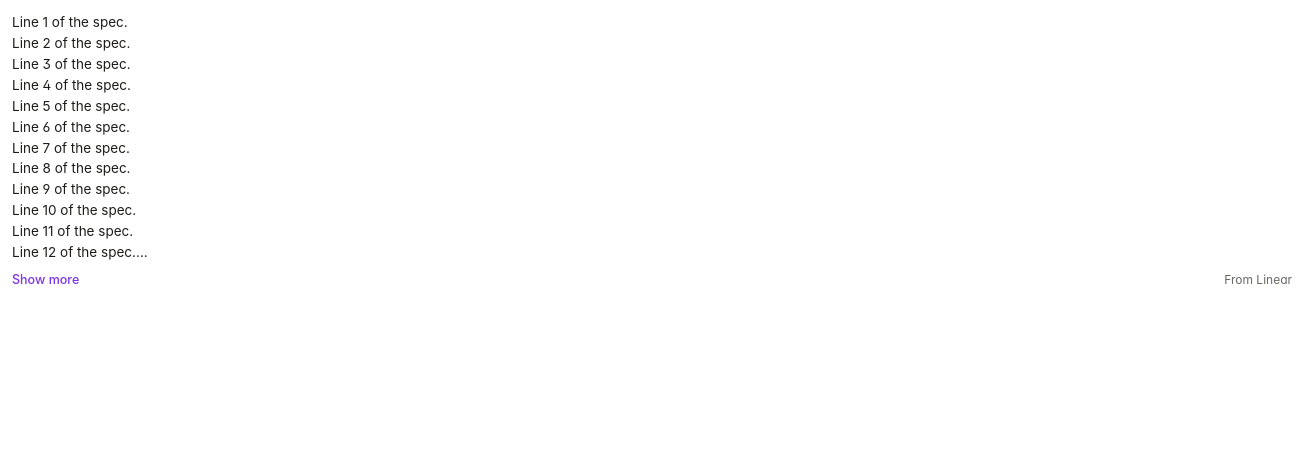
Test: TaskDescription › clamps long text behind a Show more toggle
The image size is (1304, 473).
What coordinates should you click on to do the following:
click the button "Show more"
I would click on:
 (46, 280)
Its box is [12,271,79,289].
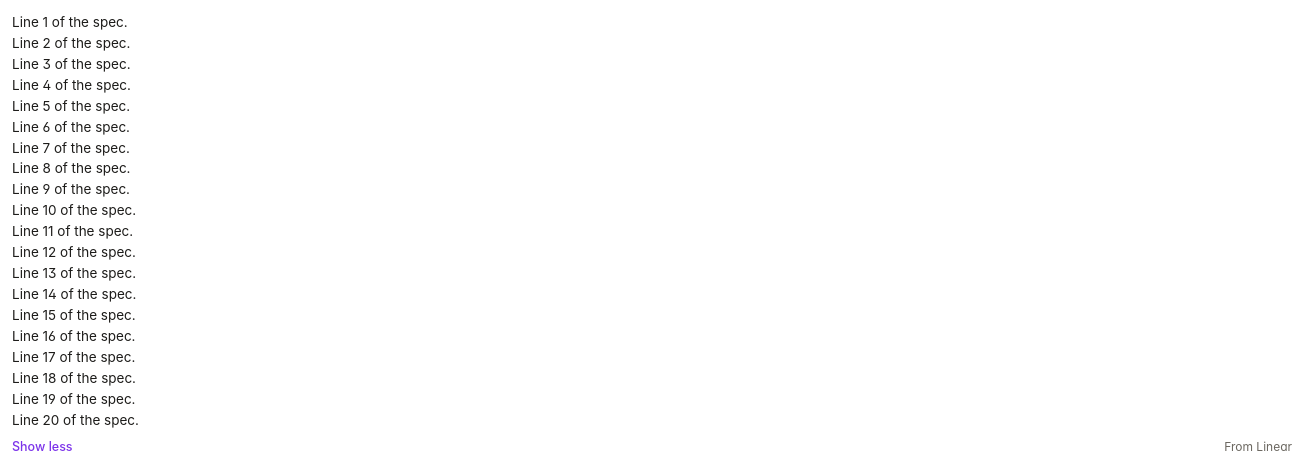
Check: the text "From Linear" is shown, box [1224,439,1292,456]
Check: the button named "Show more" is expanded, box [12,438,73,456]
Check: the button named "Show more" reads "Show less", box [12,438,73,456]
